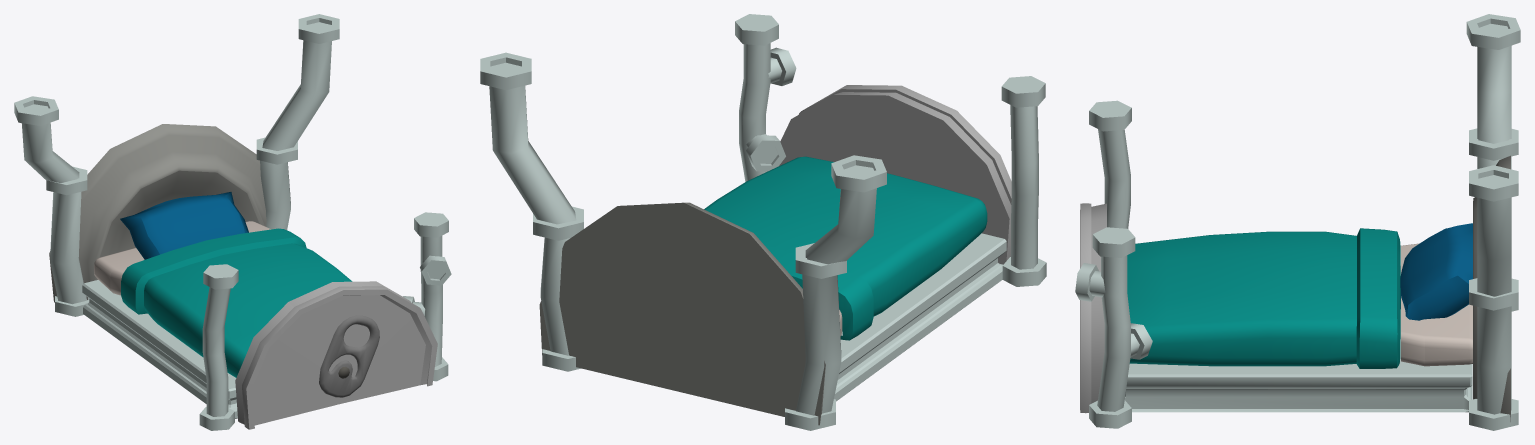
Rendered from bed.fbx.
3 views of the same model, side by side, from view 1: azimuth 30°, elevation 25°; view 2: azimuth 150°, elevation 25°; view 3: azimuth 270°, elevation 25° (orthographic). The views are drawn at different scales.
Parts seen in each view (by area): view 1: bed; view 2: bed; view 3: bed.
Boxes of the visible parts, x1,y1,x2,y2 form: bed: (14, 14, 451, 430); bed: (480, 14, 1046, 430); bed: (1075, 14, 1520, 430).
Size of the model in its own units: 2.16 by 1.43 by 2.13.
